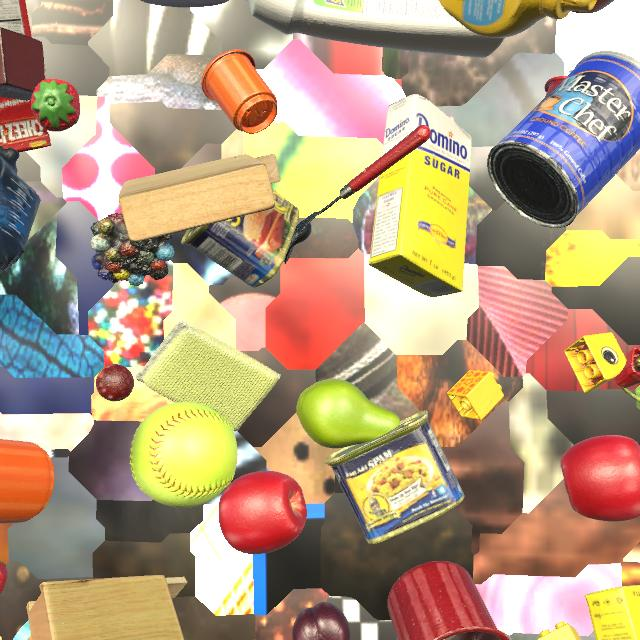ycb_002_master_chef_can: (487, 51, 640, 228)
ycb_003_cracker_box: (0, 0, 51, 153)
ycb_004_sugar_box: (369, 94, 472, 297), (585, 585, 640, 640)
ycb_006_mustard_bottle: (439, 0, 597, 38)
ycb_010_potted_meat_can: (325, 410, 465, 544), (181, 157, 300, 288)
ycb_012_strawberry: (31, 79, 80, 132), (0, 560, 8, 594)
ycb_013_apple: (218, 471, 307, 554), (560, 435, 640, 521)
ycb_016_pear: (296, 379, 400, 448)
ycb_018_plum: (292, 602, 351, 640)
